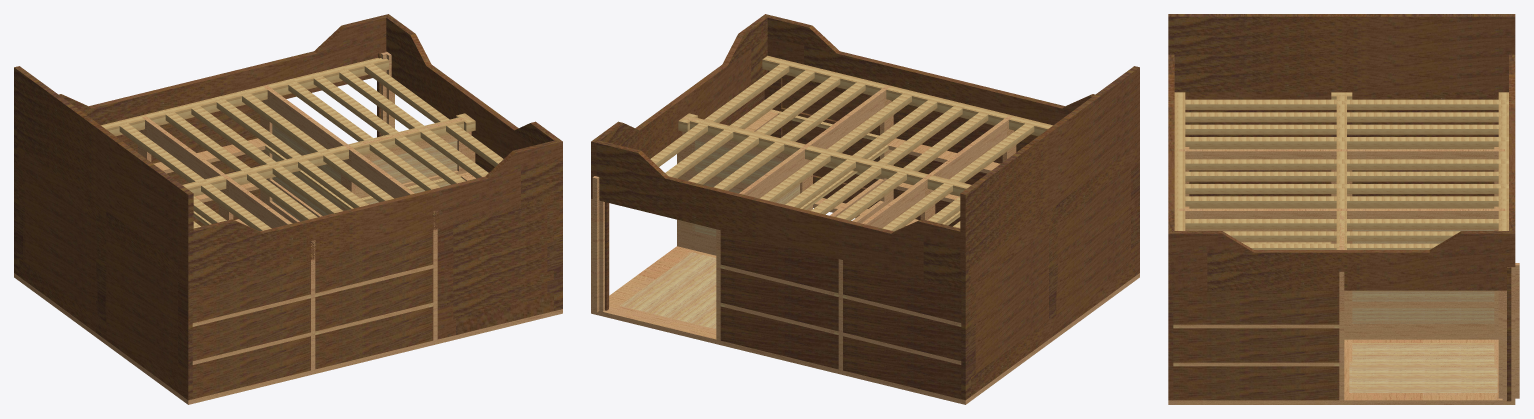
Rendered from modern_captain_bed.dae.
The picture shows the model from 3 angles, left to right: view 1: azimuth 30°, elevation 25°; view 2: azimuth 150°, elevation 25°; view 3: azimuth 270°, elevation 25°; orthographic projection.
Visible parts, largest first — view 1: facade_tiroir (×14), X_S_30_1, C_G_1, C_D_2, C_T_4, C_T_3, C_T_2, C_T_1, C_P_2, LS_D, LS_M, L_M_4 (+62 smaller); view 2: facade_tiroir (×14), C_D_2, C_D_1, X_S_30_1, C_T_4, SOC_P, C_T_3, C_T_2, C_T_1, C_P_2, LS_G, LS_M (+57 smaller); view 3: facade_tiroir (×6), C_T_4, SOC_P, C_P_2, C_T_3, C_T_1, C_T_2, C_P_1, L_M_1, L_T_1, L_T_2, L_T_3 (+51 smaller).
Part boxes in pixels (x1,y1,x2,y2): facade_tiroir (×14): (151,108,433,399); X_S_30_1: (185,160,562,270); C_G_1: (185,179,562,289); C_D_2: (14,37,386,145); C_T_4: (14,66,193,213); C_T_3: (14,86,193,232); C_T_2: (14,105,193,251); C_T_1: (17,127,193,270); C_P_2: (386,37,562,175); LS_D: (101,58,391,136); LS_M: (182,116,472,196); L_M_4: (237,90,393,202); facade_tiroir (×14): (720,108,1002,399); C_D_2: (591,160,968,270); C_D_1: (591,180,968,289); X_S_30_1: (767,37,1139,145); C_T_4: (960,66,1139,213); SOC_P: (620,252,716,328); C_T_3: (960,86,1139,232); C_T_2: (960,108,1136,251); C_T_1: (960,127,1139,270); C_P_2: (591,37,767,179); LS_G: (762,55,1052,136); LS_M: (681,115,971,196); facade_tiroir (×6): (1173,290,1339,400); C_T_4: (1168,14,1515,35); SOC_P: (1349,343,1497,392); C_P_2: (1168,250,1515,271); C_T_3: (1168,35,1515,54); C_T_1: (1174,73,1508,92); C_T_2: (1174,54,1508,73); C_P_1: (1168,271,1506,290); L_M_1: (1174,159,1508,169); L_T_1: (1174,99,1508,109); L_T_2: (1174,112,1508,122); L_T_3: (1174,124,1508,134).
Size of the model in its own units: 81.5 by 66.14 by 43.46.
5 materials, 5 textured.
